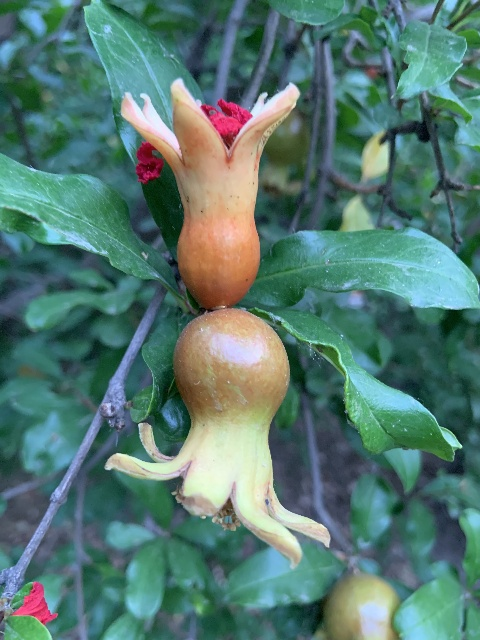early-fruit: (101, 306, 330, 564), (117, 76, 304, 310)
